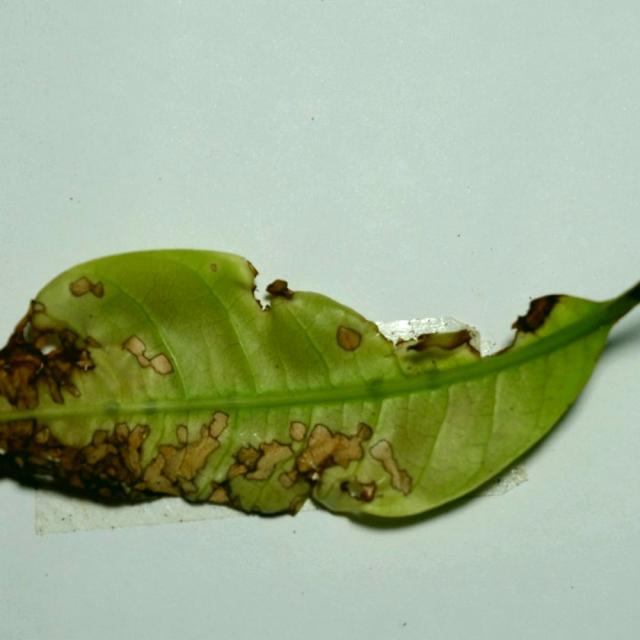Anthracnose: (326, 316, 409, 359), (367, 437, 411, 496), (402, 328, 477, 355), (181, 430, 222, 476), (4, 355, 40, 406), (250, 439, 296, 477), (514, 296, 558, 332), (333, 317, 374, 355), (331, 436, 367, 468), (159, 445, 189, 482), (69, 276, 105, 299), (335, 325, 363, 352), (235, 445, 262, 470), (84, 441, 112, 465), (369, 439, 394, 462), (149, 353, 173, 375), (123, 335, 147, 356), (33, 333, 58, 352), (288, 420, 307, 441), (345, 480, 366, 498), (177, 478, 198, 496), (266, 279, 289, 295), (359, 482, 377, 502), (355, 422, 373, 441), (35, 425, 51, 444), (245, 260, 259, 277), (209, 263, 218, 273)
Lemon: (0, 250, 639, 531)
